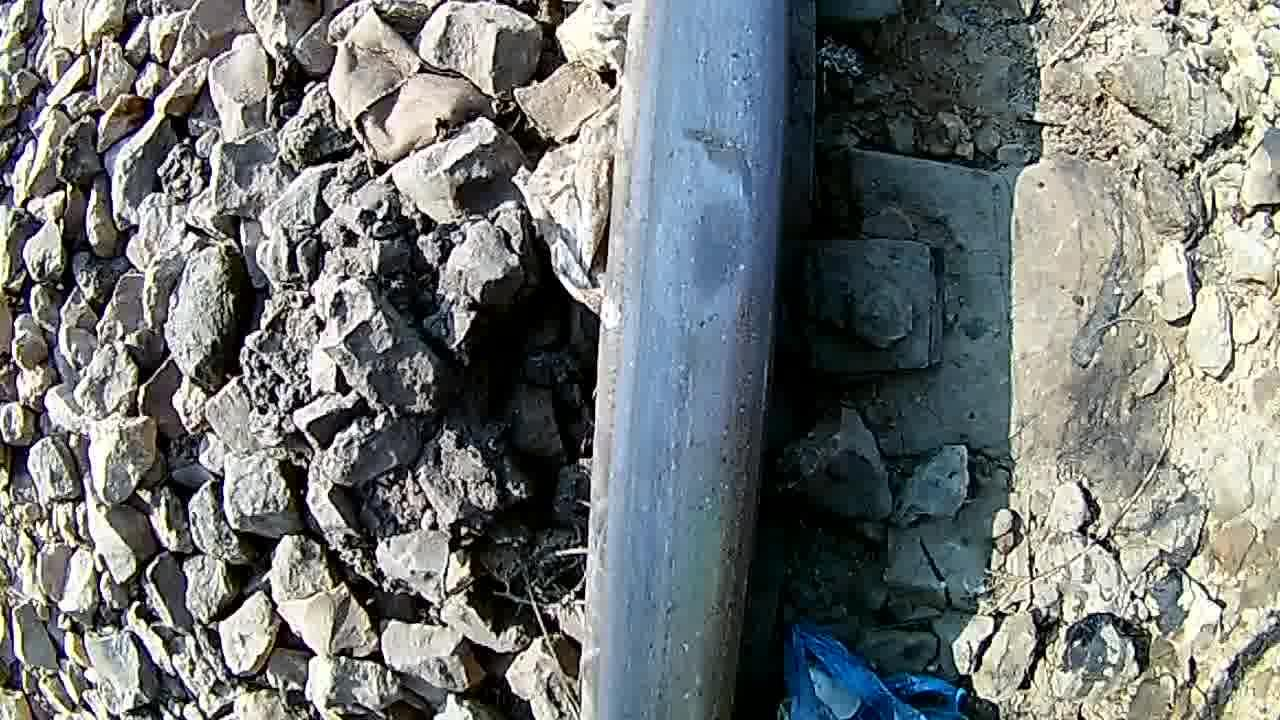bolt_missing: (609, 111, 804, 384)
